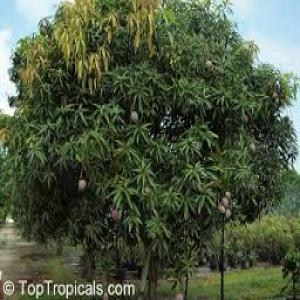Tree: (0, 0, 300, 293)
